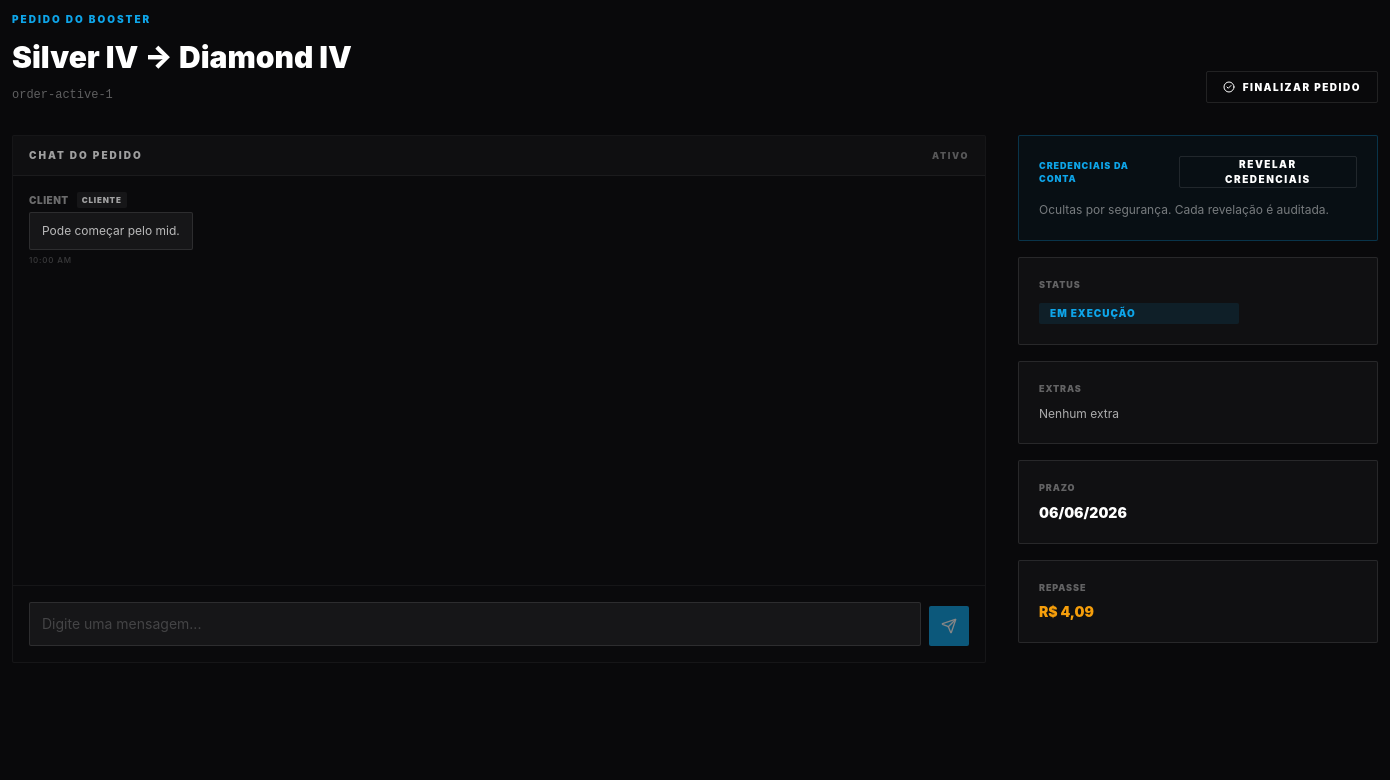
Test case: BoosterOrderDetailsPage › reveals accepted-order credentials only after an explicit click
The image size is (1390, 780).
Expected: the text "client-login" is not shown
Click the button "Revelar credenciais".
click(1268, 172)  # box left=1179, top=156, right=1357, bottom=188
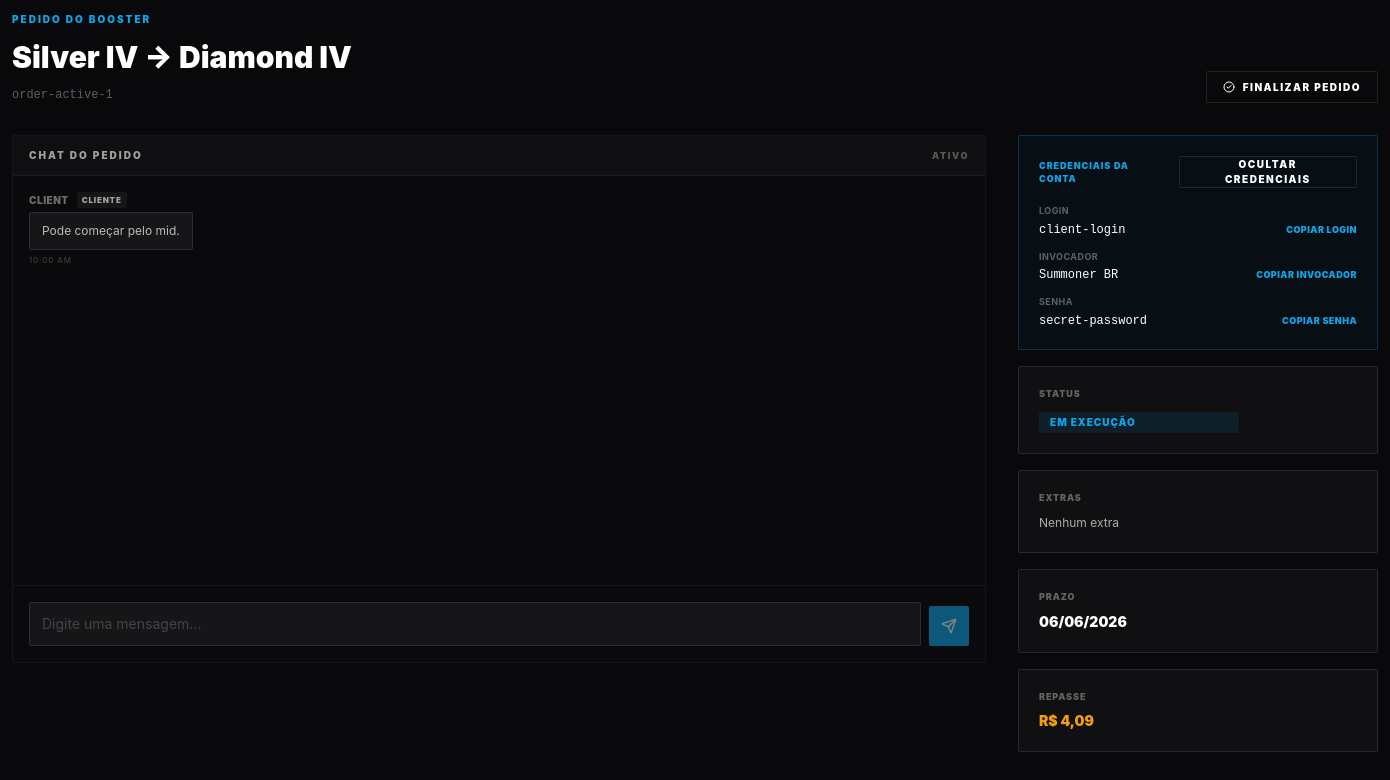
Now the text "client-login" is shown, box left=1039, top=222, right=1125, bottom=236
Now the text "Summoner BR" is shown, box left=1039, top=268, right=1118, bottom=282
Now the text "secret-password" is shown, box left=1039, top=314, right=1147, bottom=328
Click the button "Ocultar credenciais".
click(1268, 172)  # box left=1178, top=156, right=1357, bottom=188
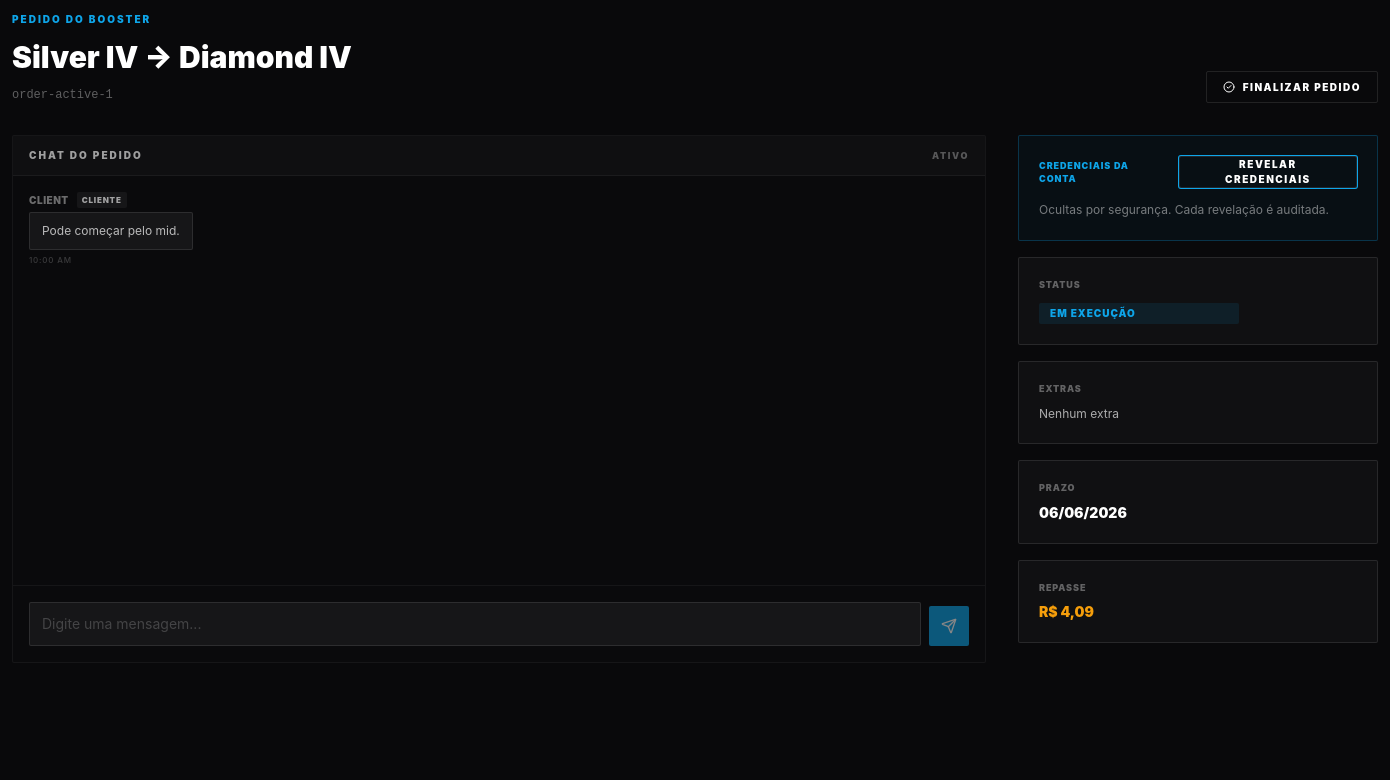
Now the text "client-login" is gone
